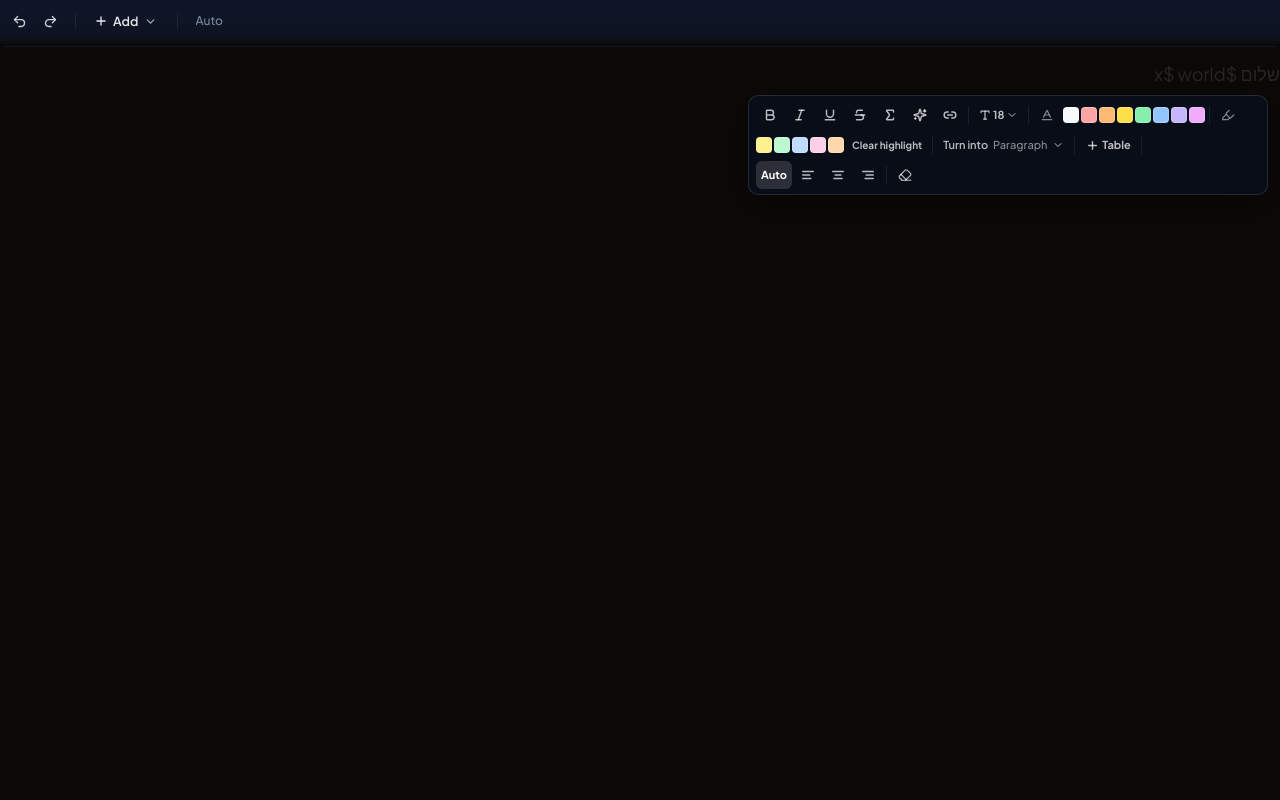
Test: candidate block picker UX › shows both groups together with every existing option and selected state
Press the mouse on the button "Turn into Paragraph" at (1004, 145), box top-left (937, 131), bottom-right (1070, 159)
Click the button "Turn into Paragraph" at (1004, 145), box top-left (937, 131), bottom-right (1070, 159)
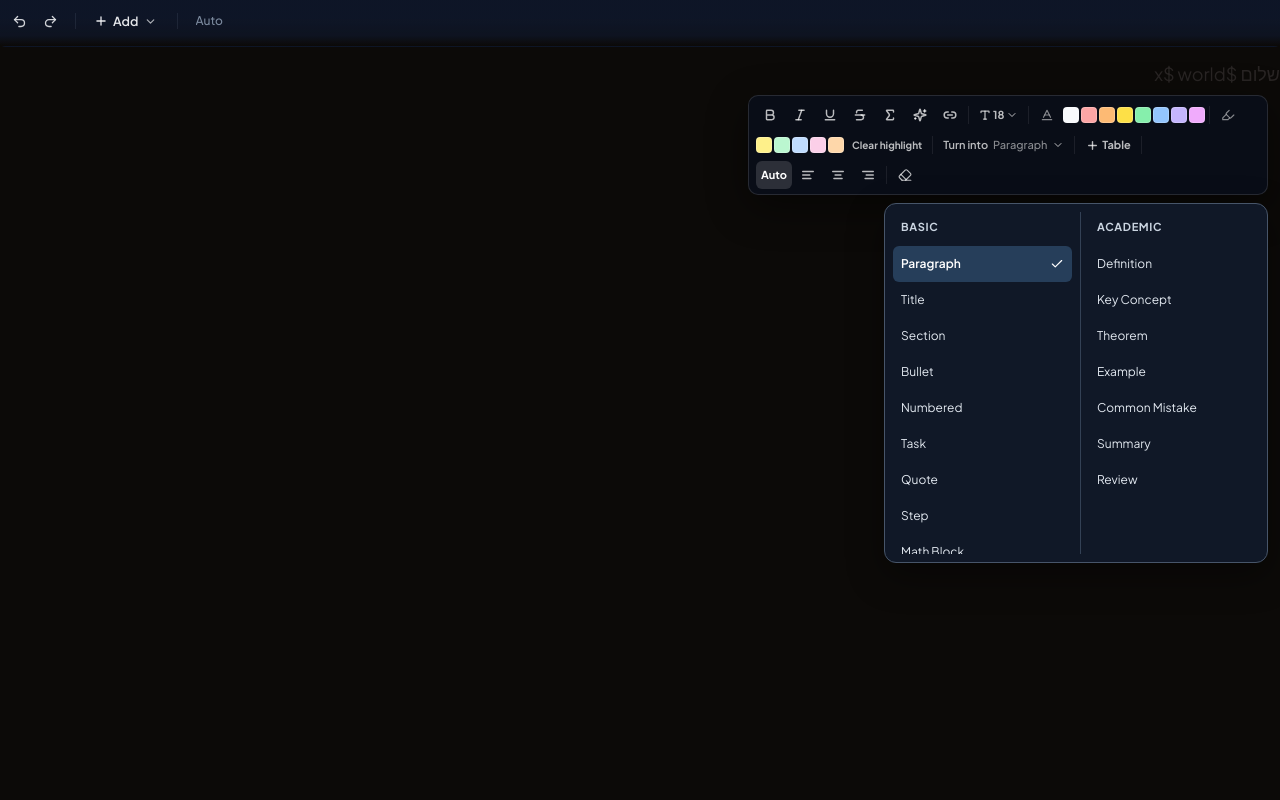
Expected: the text "Title" is shown, top-left (901, 292), bottom-right (925, 308)
Expected: the text "Section" is shown, top-left (901, 328), bottom-right (946, 344)
Expected: the text "Bullet" is shown, top-left (901, 364), bottom-right (934, 380)
